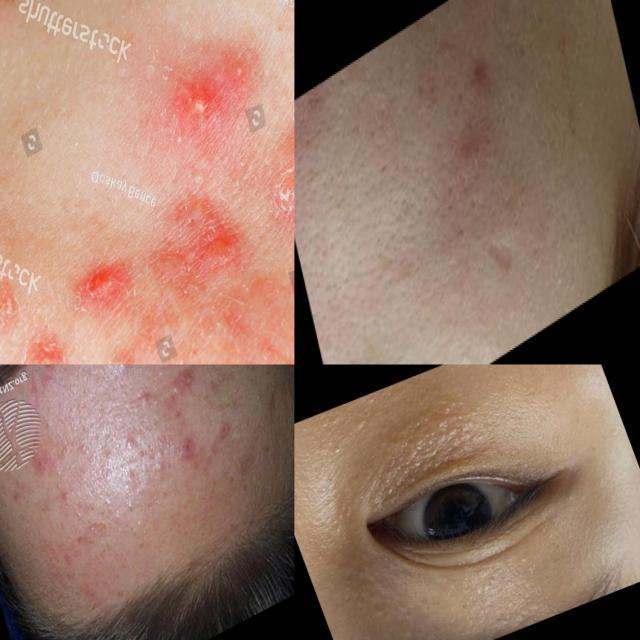Pimples: (348, 391, 503, 496), (455, 542, 574, 640), (66, 238, 150, 339), (447, 110, 502, 194), (329, 546, 386, 618), (362, 577, 422, 640), (481, 220, 524, 290), (183, 66, 226, 130), (22, 316, 72, 364), (170, 422, 207, 469), (166, 364, 208, 404), (116, 365, 138, 373)
